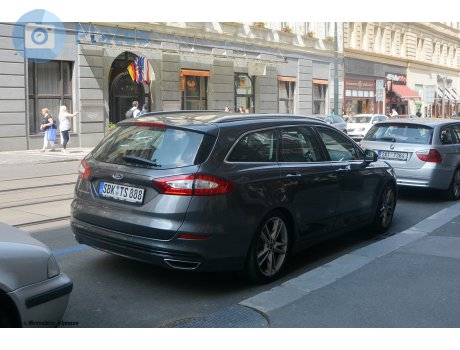License Plates: (101, 181, 140, 199)
